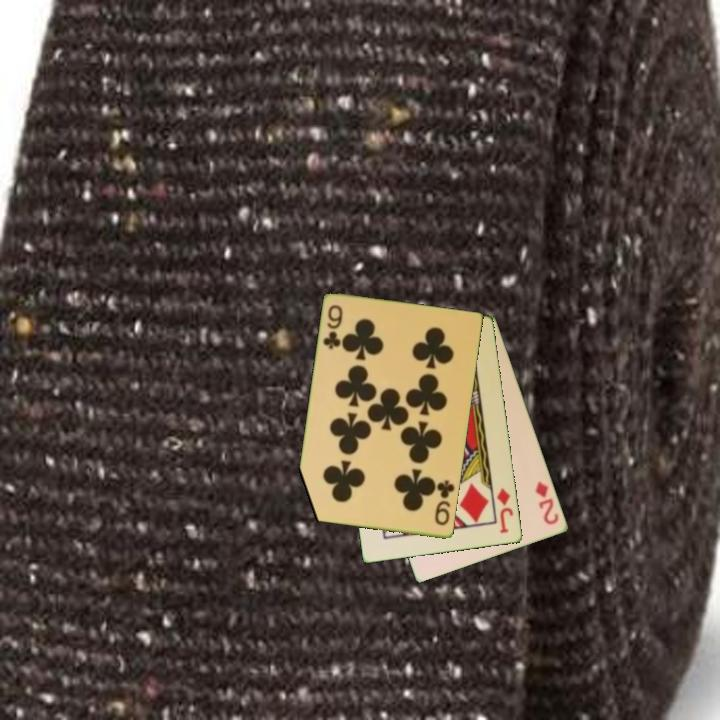2d: (532, 478, 562, 528)
9c: (431, 477, 458, 529), (320, 302, 346, 352)
Jd: (493, 484, 516, 536)
